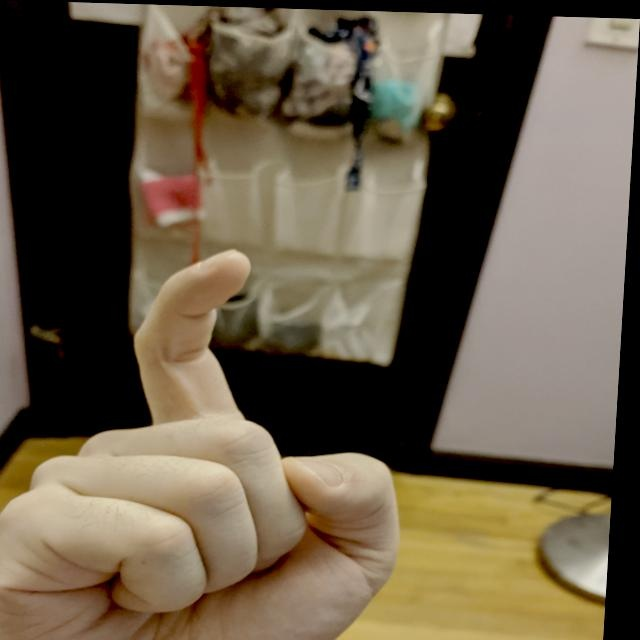X: (0, 237, 433, 639)
